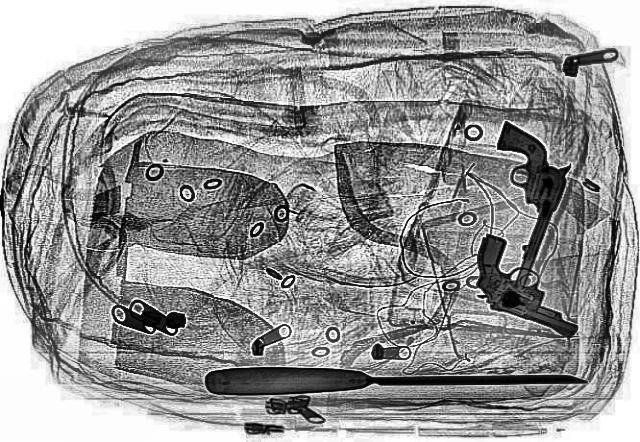Gun: (432, 232, 622, 340), (458, 120, 580, 286)
Knife: (205, 362, 588, 394)
